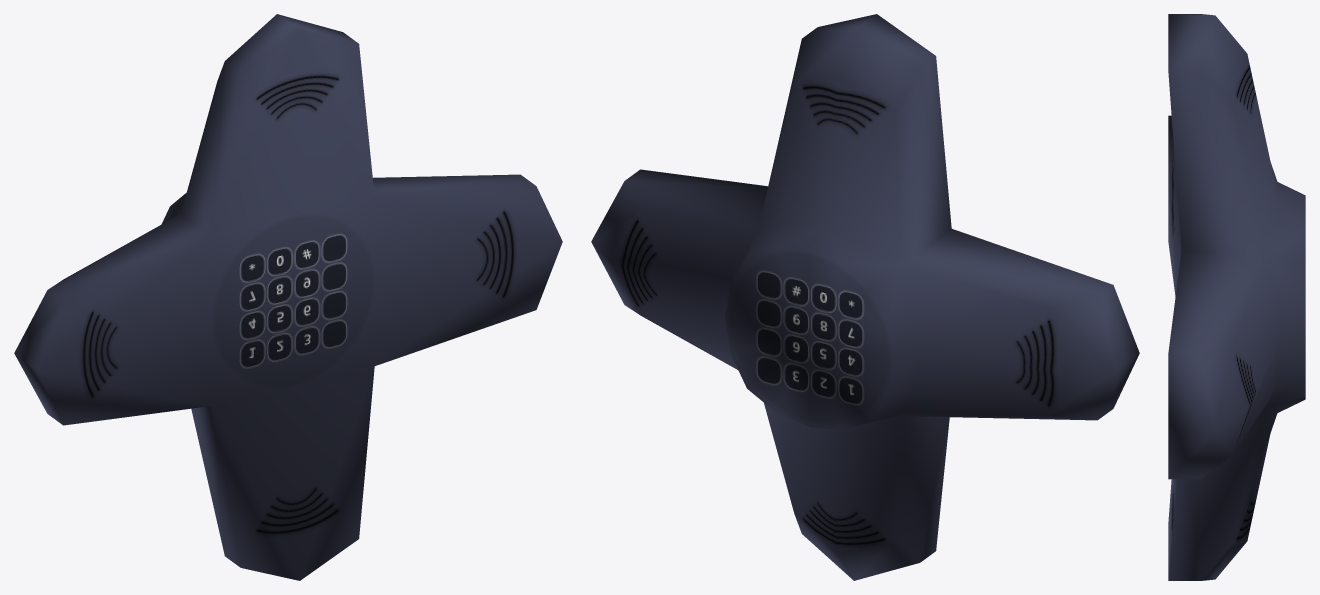
Rendered from conference_phone.dae.
The picture shows the model from 3 angles, left to right: view 1: azimuth 30°, elevation 25°; view 2: azimuth 150°, elevation 25°; view 3: azimuth 270°, elevation 25°; orthographic projection. The views are drawn at different scales.
Visible parts, largest first — view 1: Cube; view 2: Cube; view 3: Cube.
Boxes of the visible parts, <box> form: Cube: <box>14,14,562,580</box>; Cube: <box>591,14,1139,580</box>; Cube: <box>1168,14,1305,580</box>.
Size of the model in its own units: 0.3998 by 0.088 by 0.3998.
Materials: 1 (1 with a texture image).
